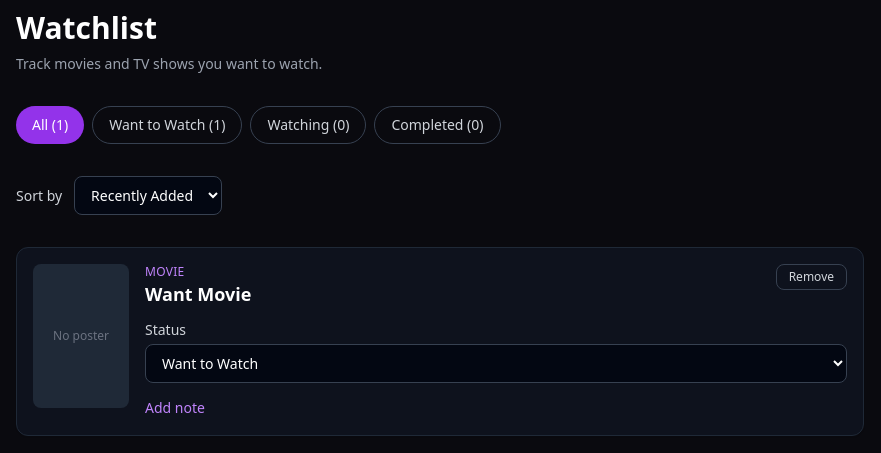
Test case: WatchlistPage › filters by status tab
The image size is (881, 453).
Step 1. Click the button "Watching (0)" → x=308, y=125, box [250,106,366,144]
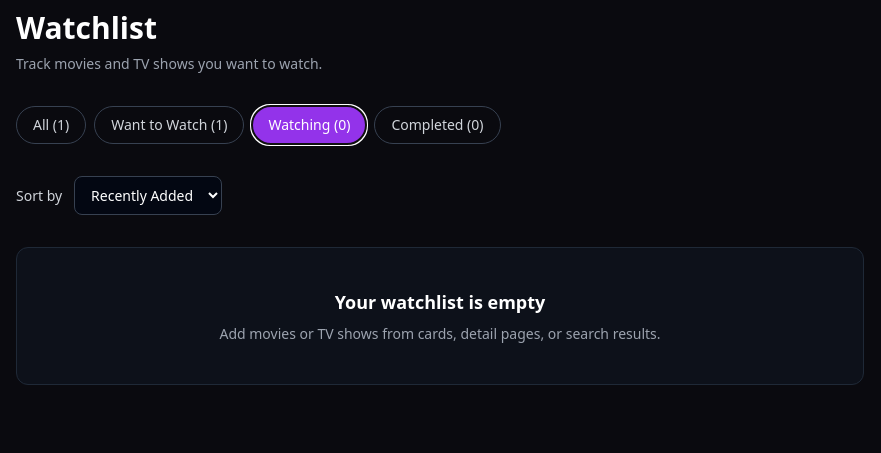
Expected: the heading "Your watchlist is empty" is shown, [335,290,545,314]
Step 2. Click the button "Want to Watch (1)" → x=169, y=125, box [94,106,244,144]
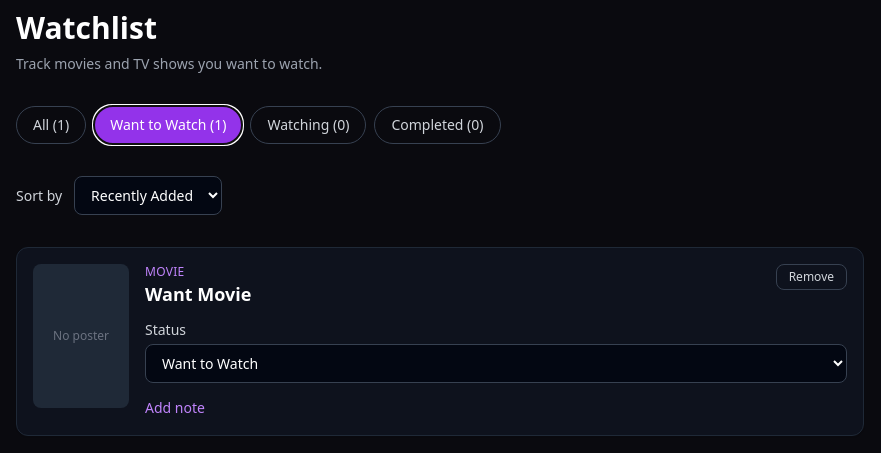
Expected: the link "Want Movie" is shown, [145,282,251,306]
